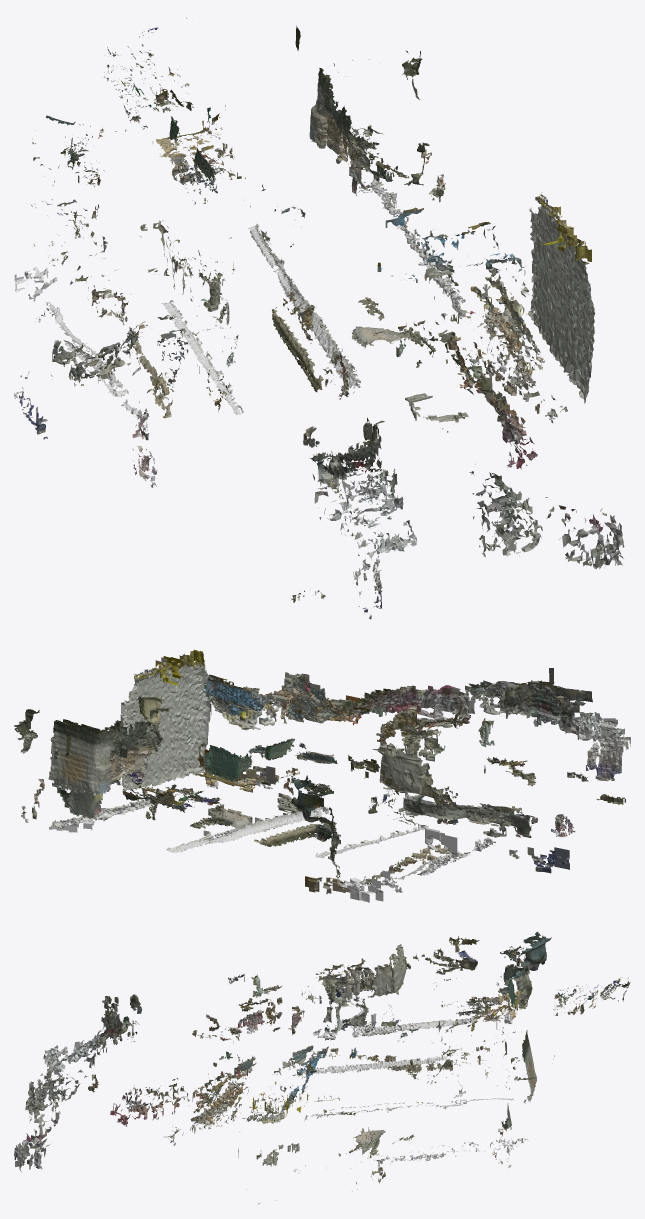
The model's file is surfaces-1.glb.
3 views of the same model, one above another, from view 1: azimuth 30°, elevation 25°; view 2: azimuth 150°, elevation 25°; view 3: azimuth 270°, elevation 25° (orthographic). The views are drawn at different scales.
Visible parts, largest first — view 1: obj-1-659, obj-1-461, obj-1-369, obj-1-442, obj-1-632, obj-1-658, obj-1-436, obj-1-88, obj-1-238, obj-1-150, obj-1-107, obj-1-496 (+10 smaller); view 2: obj-1-659, obj-1-362, obj-1-150, obj-1-461, obj-1-658, obj-1-369, obj-1-499, obj-1-168, obj-1-213, obj-1-632, obj-1-238, obj-1-426 (+28 smaller); view 3: obj-1-150, obj-1-461, obj-1-137, obj-1-658, obj-1-442, obj-1-369, obj-1-436, obj-1-639, obj-1-527, obj-1-88, obj-1-107, obj-1-213 (+12 smaller).
Boxes of the visible parts, x1,y1,x2,y2 form: obj-1-659: (528, 201, 595, 403); obj-1-461: (438, 330, 624, 569); obj-1-369: (309, 420, 416, 546); obj-1-442: (469, 464, 542, 556); obj-1-632: (248, 224, 360, 393); obj-1-658: (14, 267, 149, 422); obj-1-436: (483, 253, 544, 370); obj-1-88: (424, 265, 539, 401); obj-1-238: (50, 315, 189, 386); obj-1-150: (70, 220, 193, 370); obj-1-107: (477, 311, 567, 422); obj-1-496: (320, 461, 410, 554); obj-1-659: (120, 660, 211, 790); obj-1-362: (48, 720, 135, 793); obj-1-150: (372, 741, 514, 824); obj-1-461: (322, 685, 474, 720); obj-1-658: (341, 827, 495, 902); obj-1-369: (505, 668, 603, 741); obj-1-499: (586, 718, 630, 781); obj-1-168: (195, 745, 256, 792); obj-1-213: (503, 680, 591, 720); obj-1-632: (166, 806, 328, 852); obj-1-238: (398, 793, 531, 837); obj-1-426: (204, 674, 266, 715); obj-1-150: (334, 944, 410, 1025); obj-1-461: (14, 1069, 240, 1172); obj-1-137: (500, 932, 551, 1008); obj-1-658: (313, 1009, 513, 1040); obj-1-442: (25, 1070, 87, 1125); obj-1-369: (53, 996, 134, 1074); obj-1-436: (206, 1085, 298, 1129); obj-1-639: (304, 1056, 446, 1074); obj-1-527: (110, 1080, 215, 1126); obj-1-88: (190, 1058, 295, 1133); obj-1-107: (163, 1080, 243, 1145); obj-1-213: (102, 994, 142, 1041).
Size of the model in its own units: 14.1 by 6.65 by 19.88.
